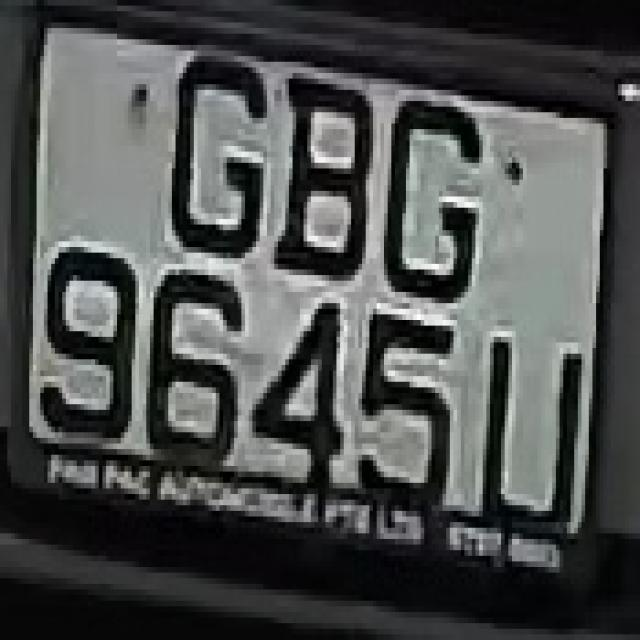4: (241, 270, 340, 500)
5: (344, 292, 457, 522)
6: (150, 252, 252, 482)
9: (40, 225, 150, 449)
B: (282, 67, 373, 292)
G: (380, 84, 483, 326), (168, 34, 256, 275)
U: (468, 314, 589, 567)
